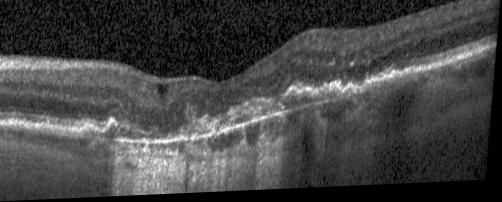intraretinal_cyst: (158, 85, 170, 95)
retinal_drusen: (83, 127, 101, 138), (106, 123, 119, 138)
subretinal_hyperreflective_material: (169, 79, 397, 142)
